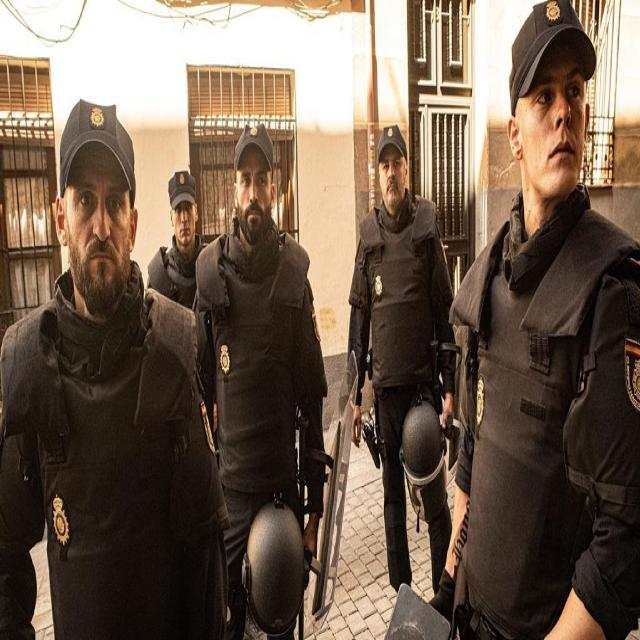police: (447, 1, 637, 640), (0, 86, 200, 640), (321, 107, 468, 632), (185, 113, 327, 640)
